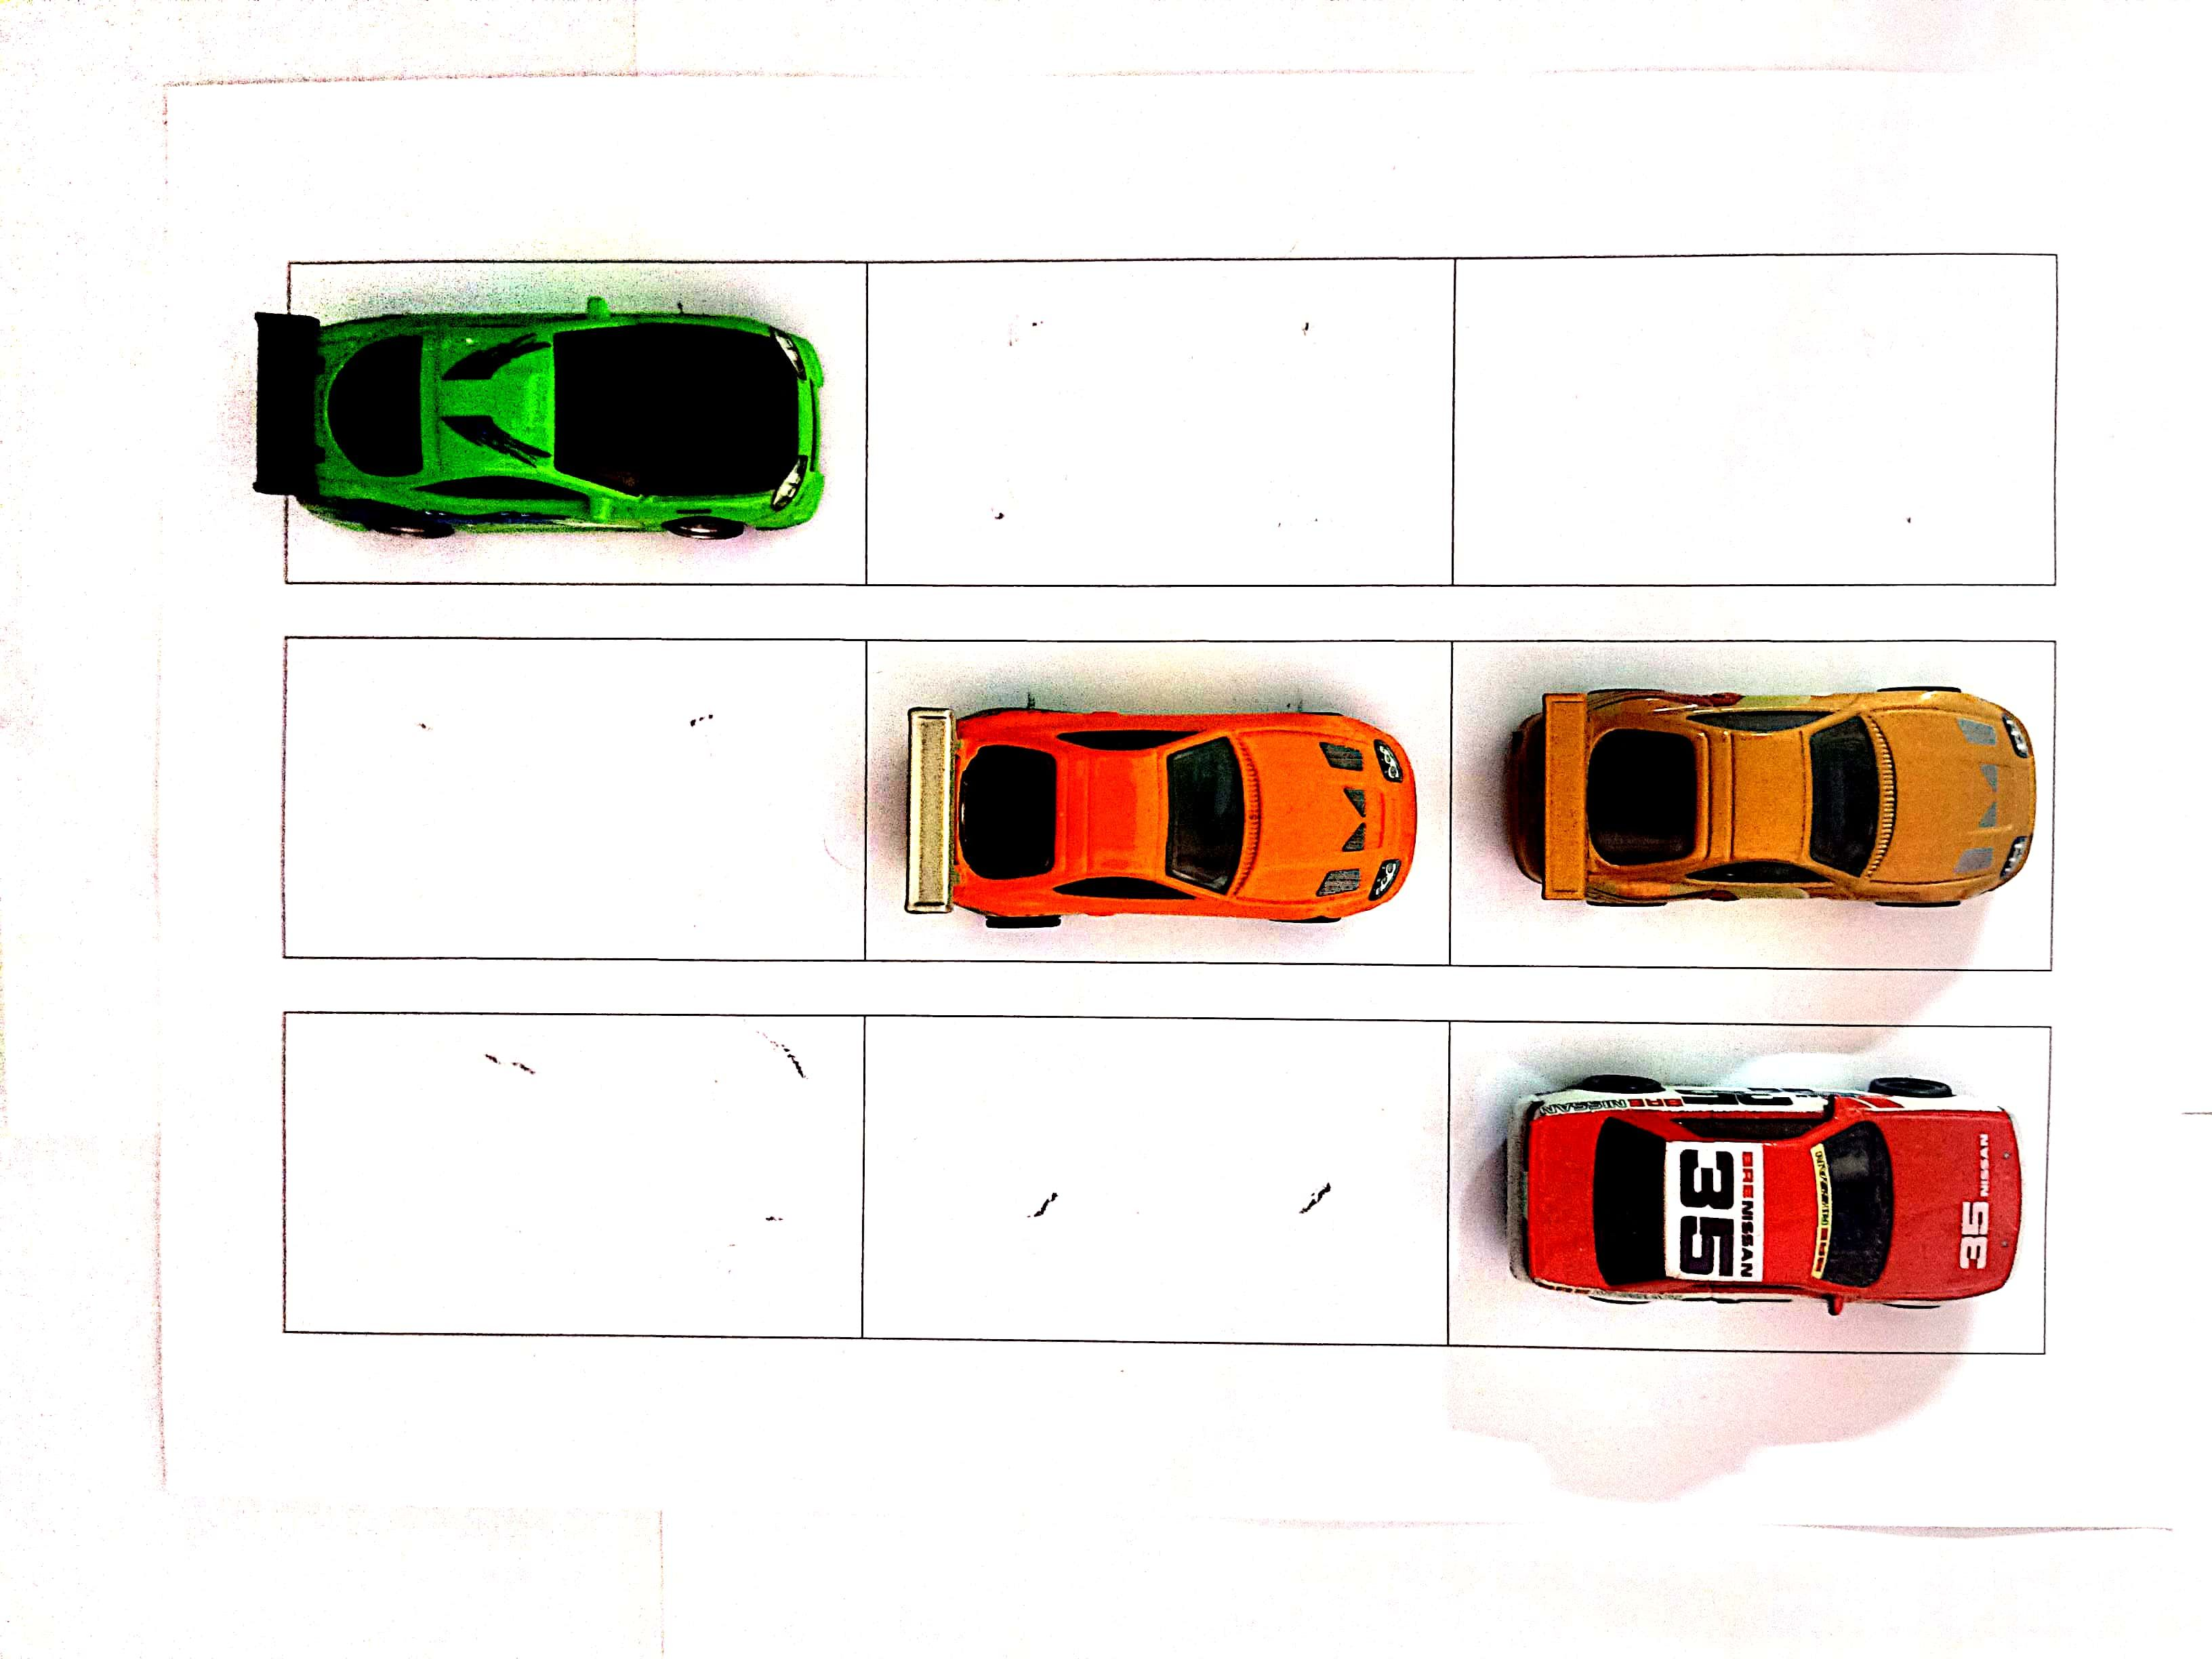Busy: (1449, 1028, 2055, 1351), (1451, 648, 2055, 962), (287, 270, 860, 580), (871, 648, 1446, 955)
Free: (1454, 258, 2050, 586), (866, 1018, 1446, 1345), (871, 261, 1446, 584), (286, 1014, 862, 1333), (287, 641, 869, 955)
